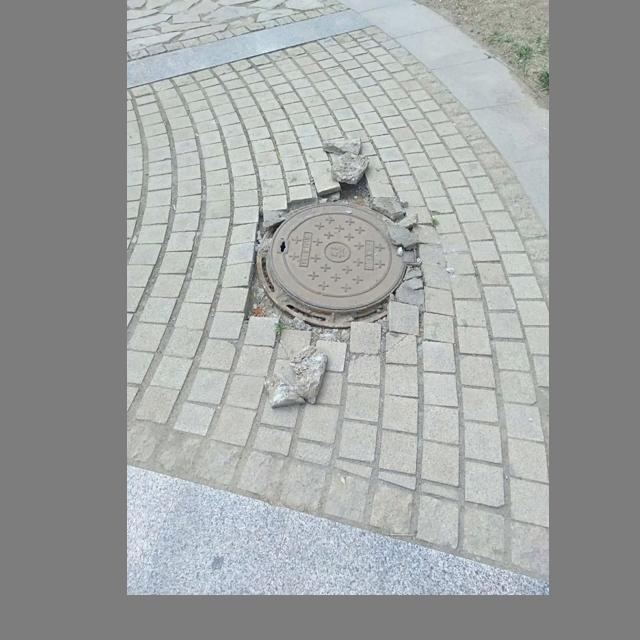circle: (228, 165, 447, 357)
